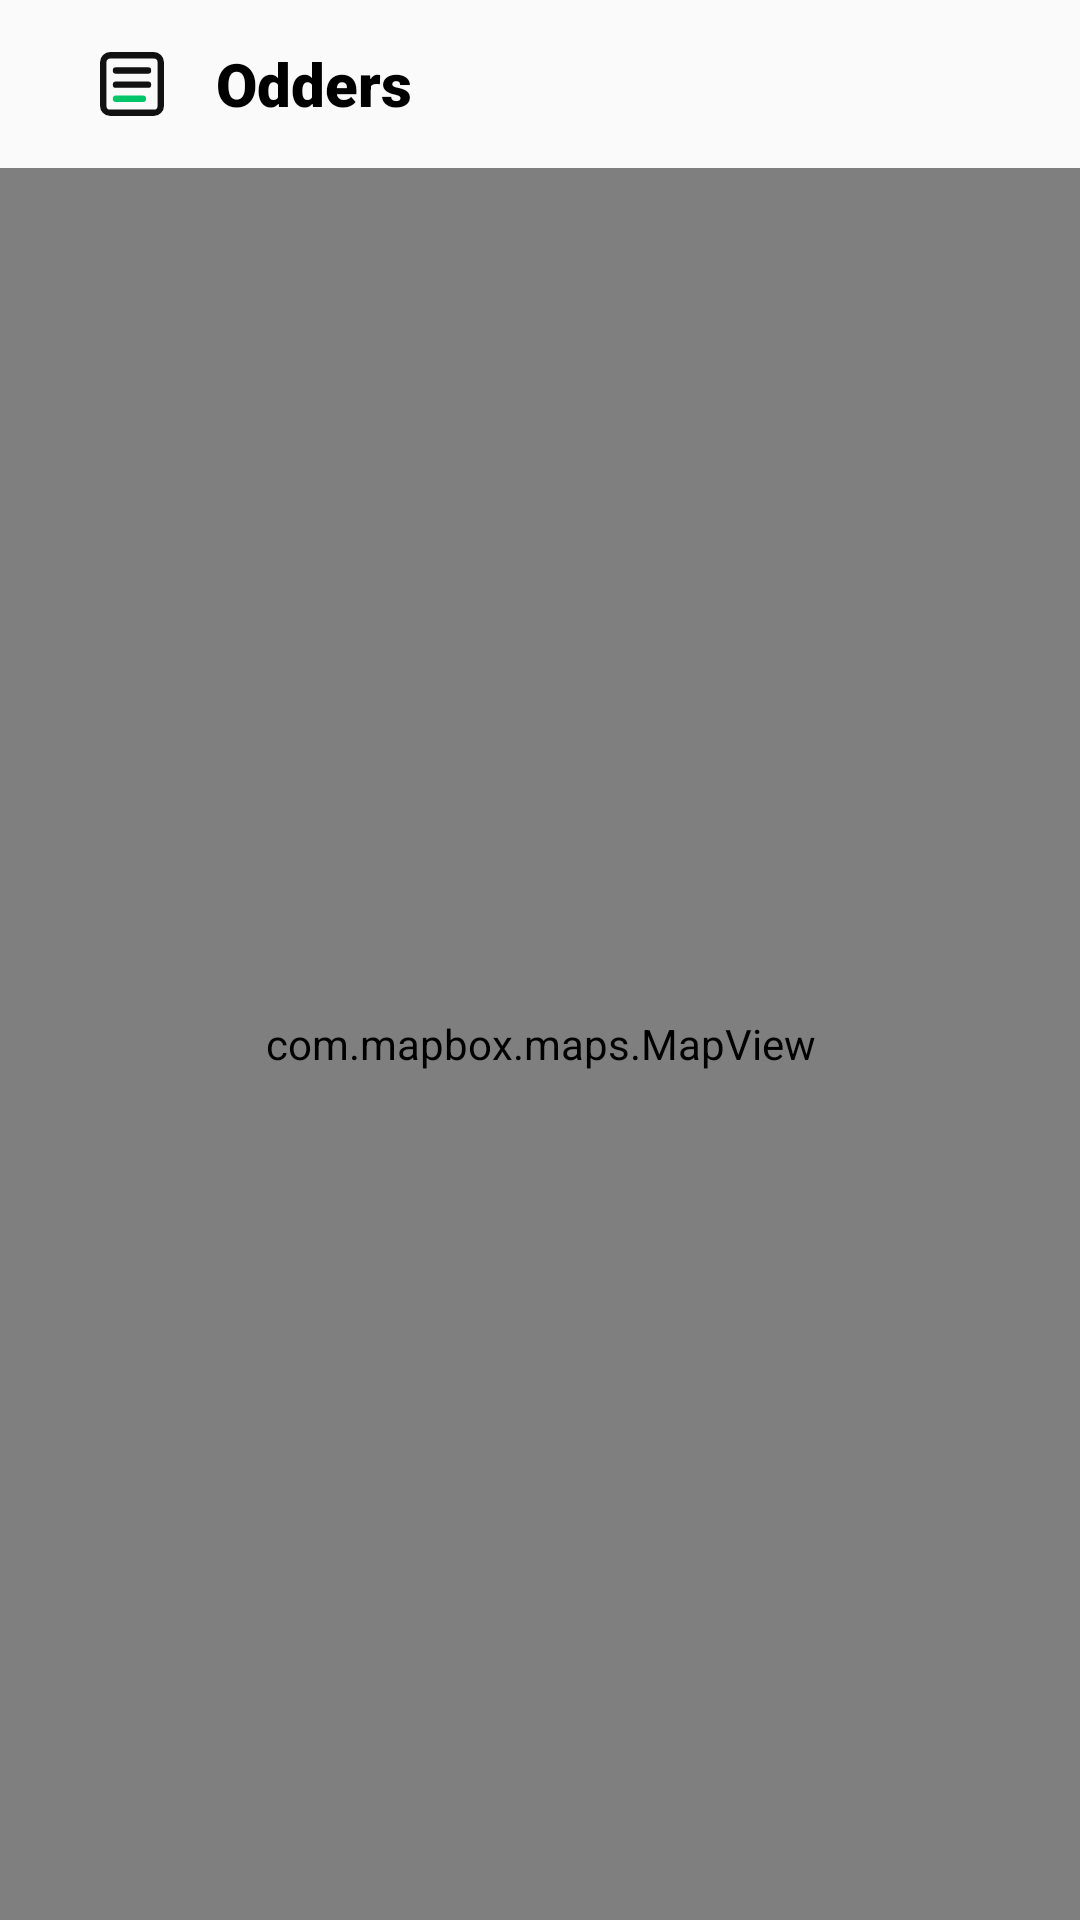

Where to tap for icons on this 1080x1920 app screen, as (x,y):
menu: (132,84)
